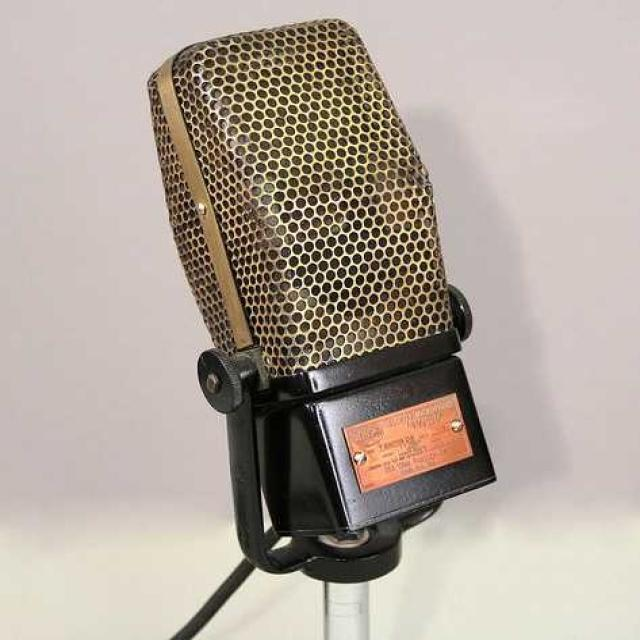microphone: (151, 18, 490, 568)
